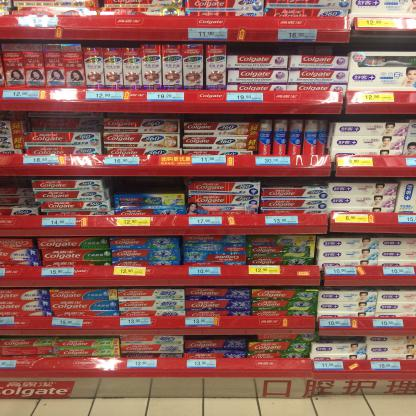Void: (230, 44, 340, 54), (26, 113, 97, 128), (357, 34, 410, 50), (117, 179, 184, 191)
